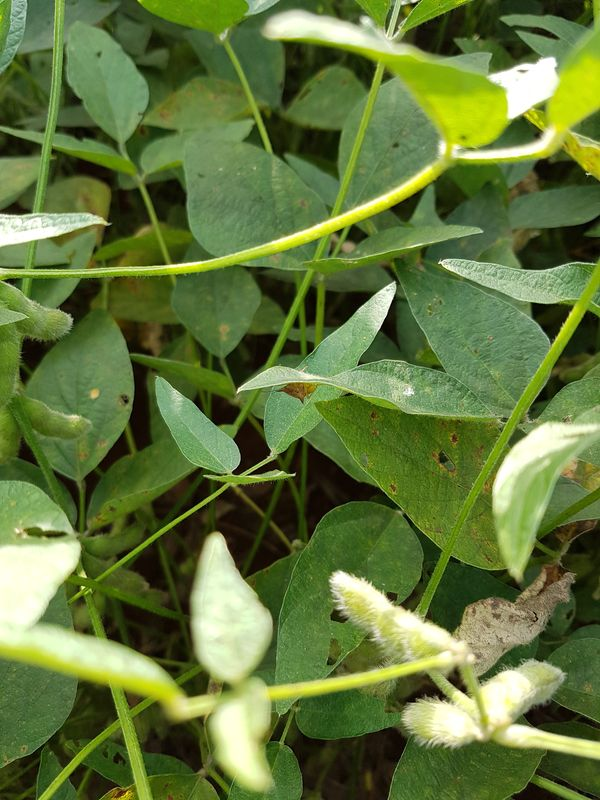Euschistus_heros_adulto: (275, 368, 326, 411)
